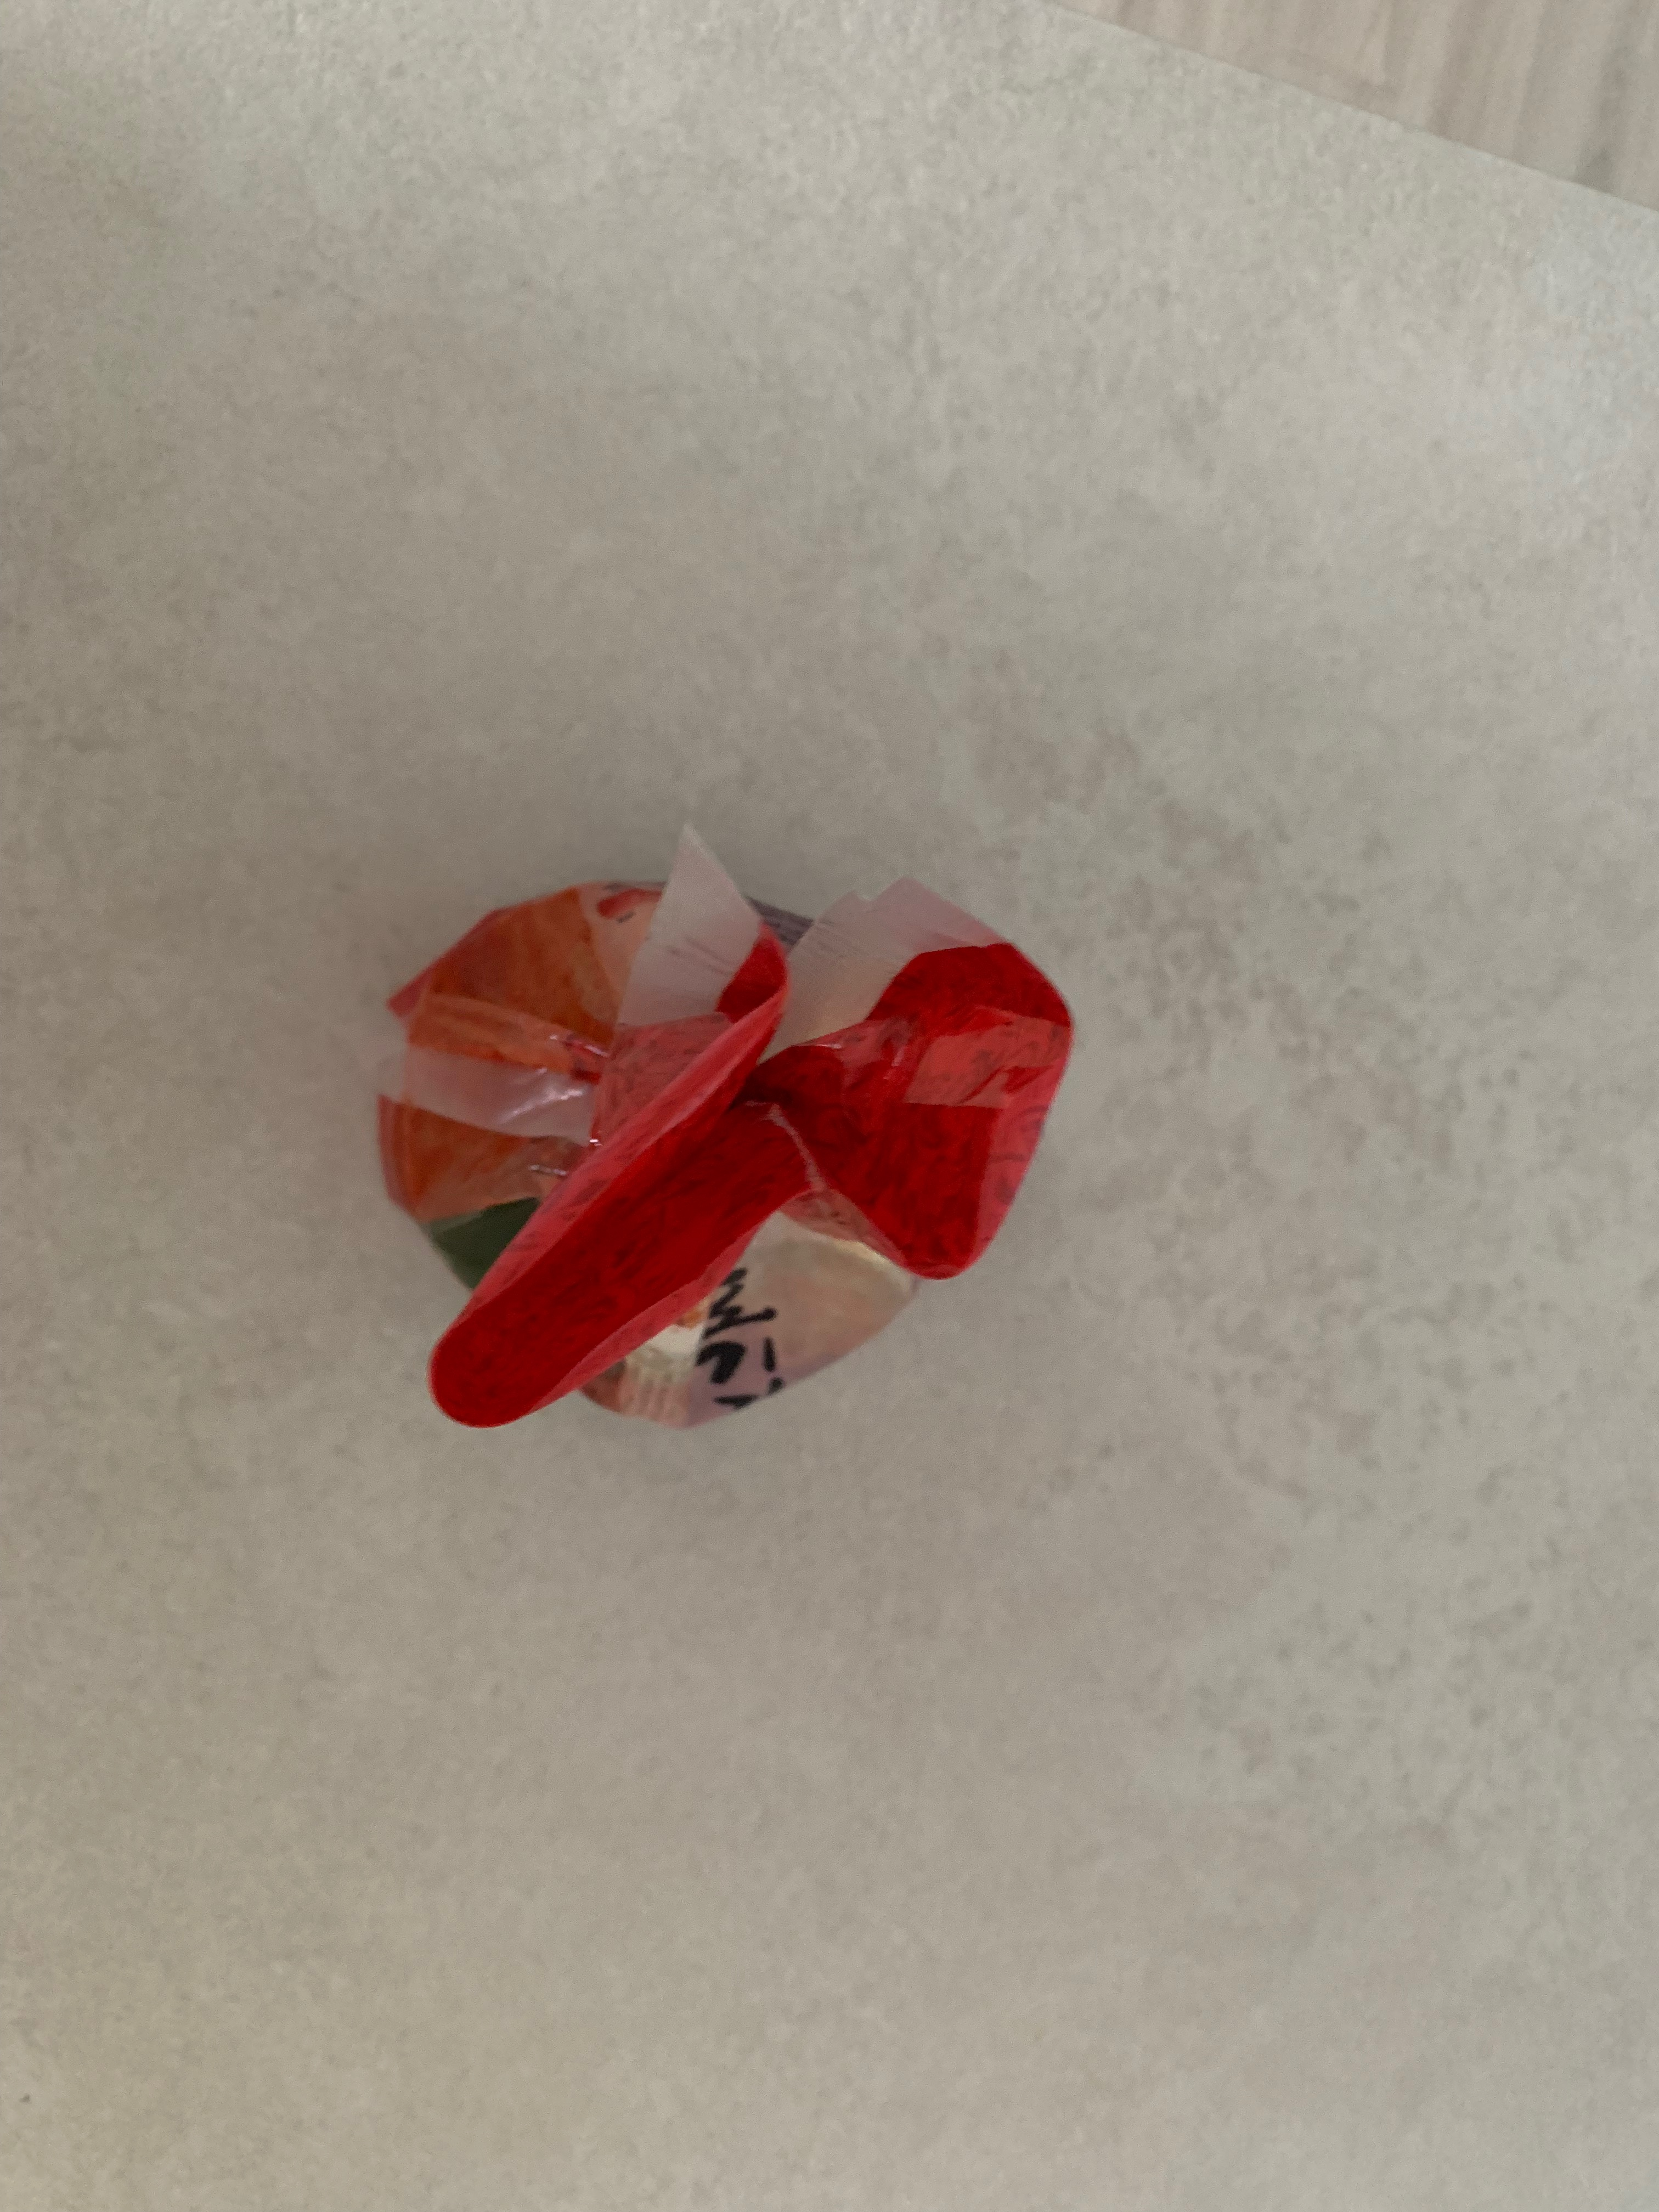kimchi: (375, 871, 1077, 1439)
